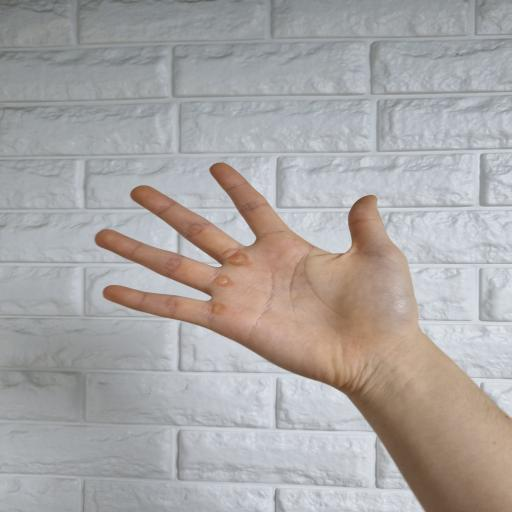Paper: (92, 164, 430, 396)
